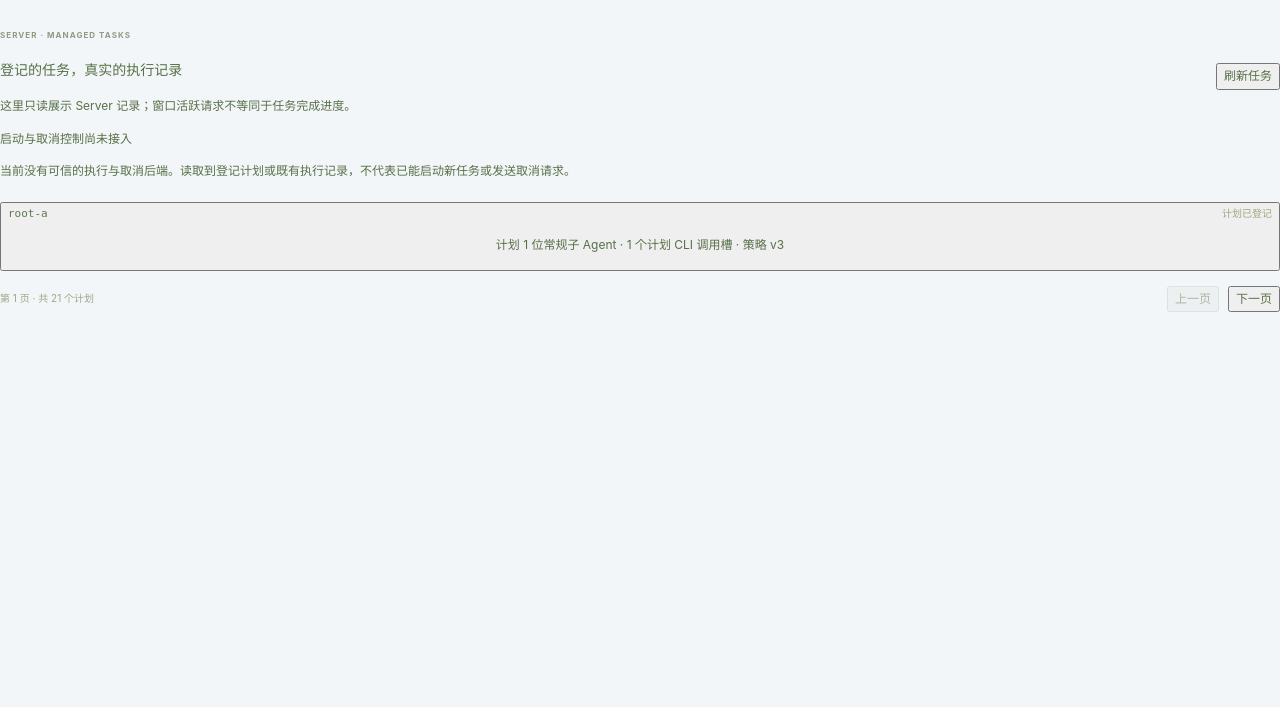
Test case: managed team task panel › paginates plan lists using the server offset with a twenty-record limit
Click the button "下一页".
click(1254, 299)  # box [1228,286,1279,312]
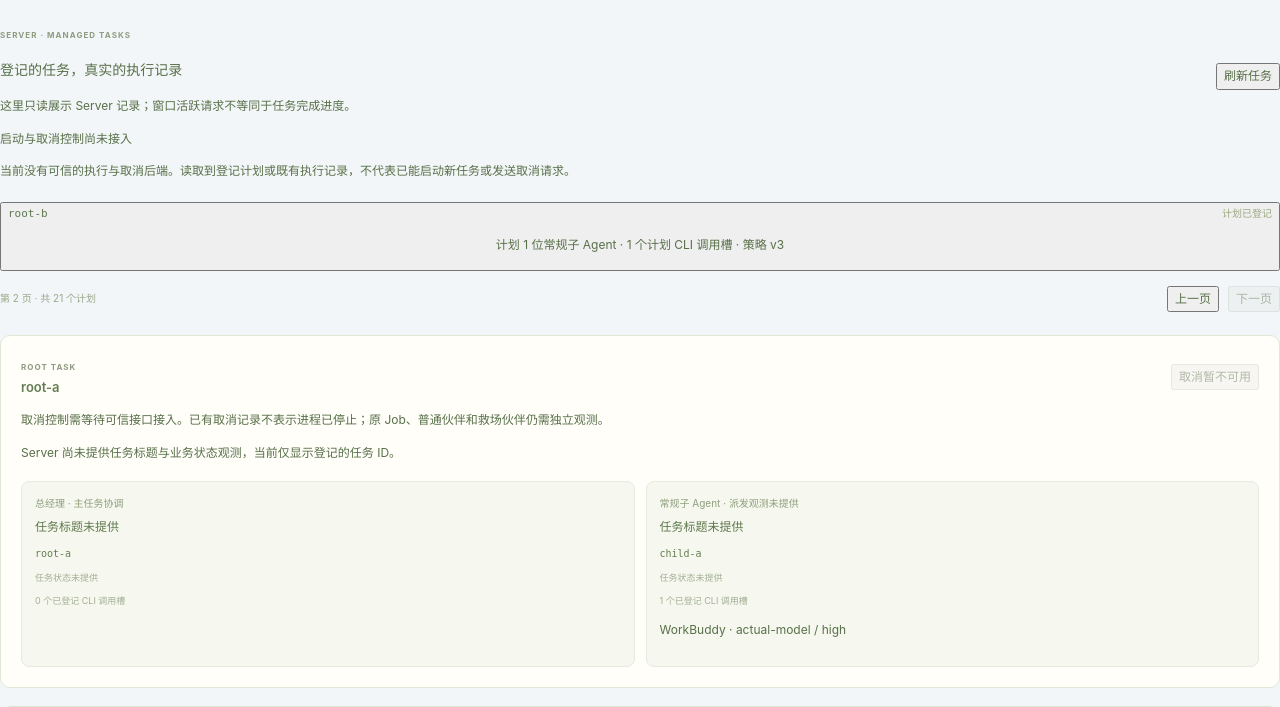
Expected: the button with aria-label "查看任务 root-b" is shown, [0,202,1279,271]
Expected: the button "下一页" is disabled, [1228,286,1279,312]
Click the button "上一页".
click(1193, 299)  # box [1167,286,1219,312]
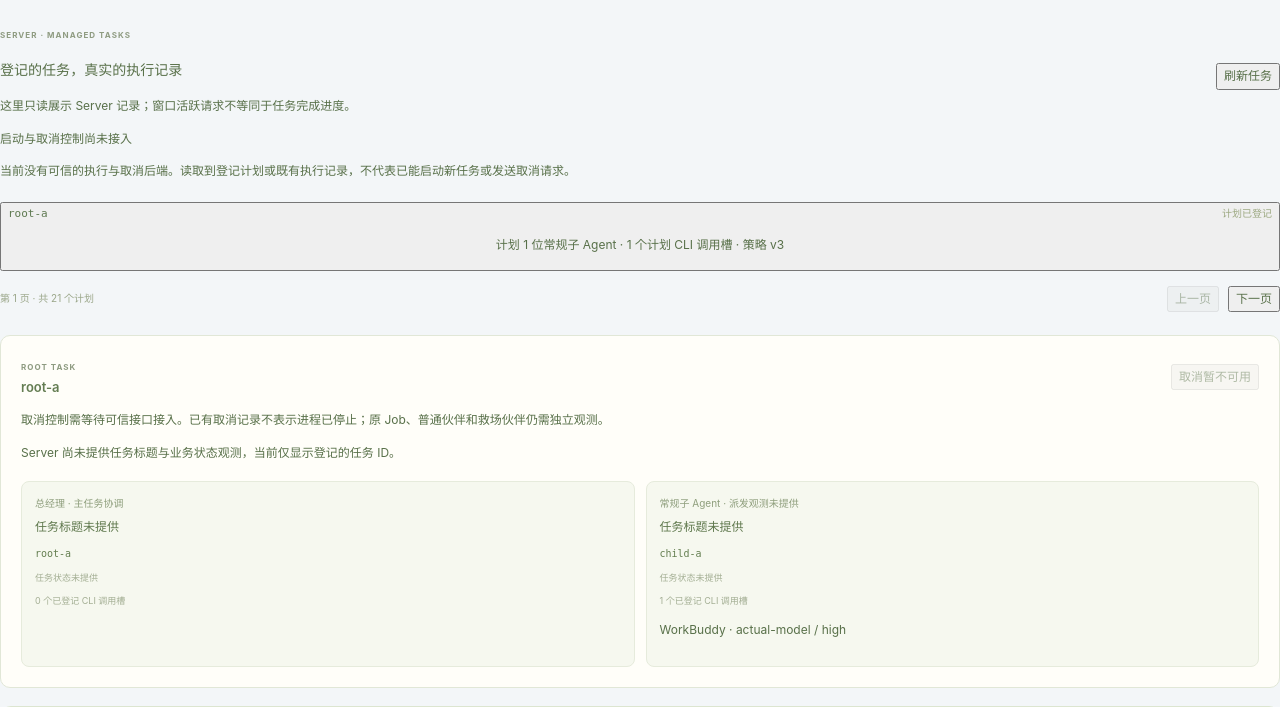
Expected: the button with aria-label "查看任务 root-a" is shown, [0,202,1279,271]
Expected: the button "上一页" is disabled, [1167,286,1219,312]
